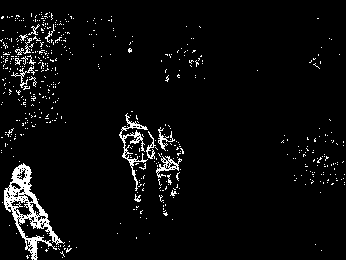person: (5, 157, 69, 258), (116, 109, 152, 205), (157, 117, 186, 216)
